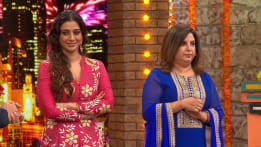Caution: (36, 8, 224, 147)
